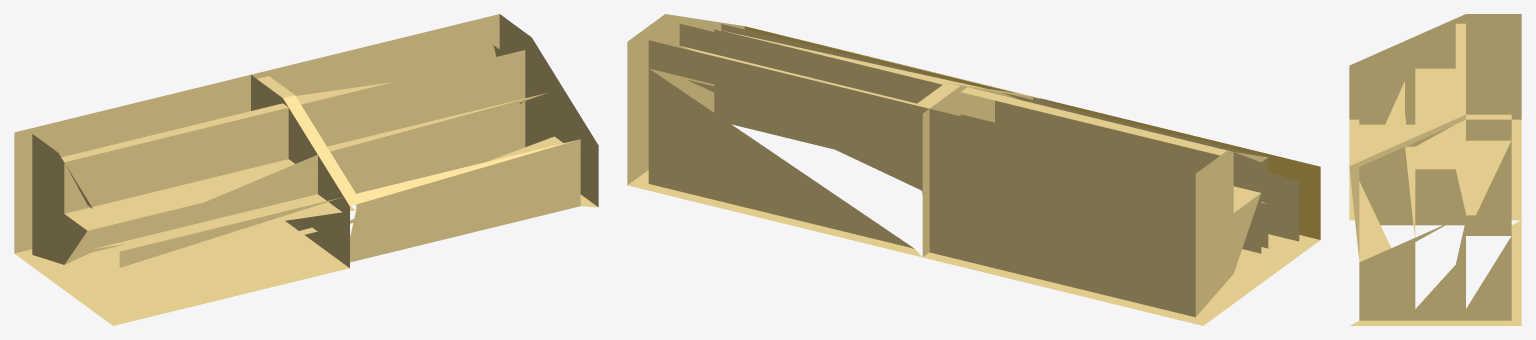
The model's file is Countertop-Showcase-34.glb.
The picture shows the model from 3 angles, left to right: view 1: azimuth 30°, elevation 25°; view 2: azimuth 150°, elevation 25°; view 3: azimuth 270°, elevation 25°; orthographic projection. The views are drawn at different scales.
Bounding box in the file's own units: 0.8636 × 0.2058 × 0.3048.
